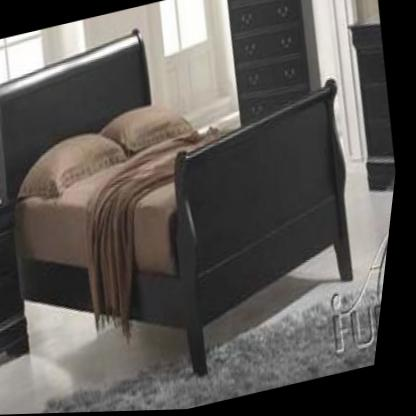Bed: (0, 28, 361, 378)
